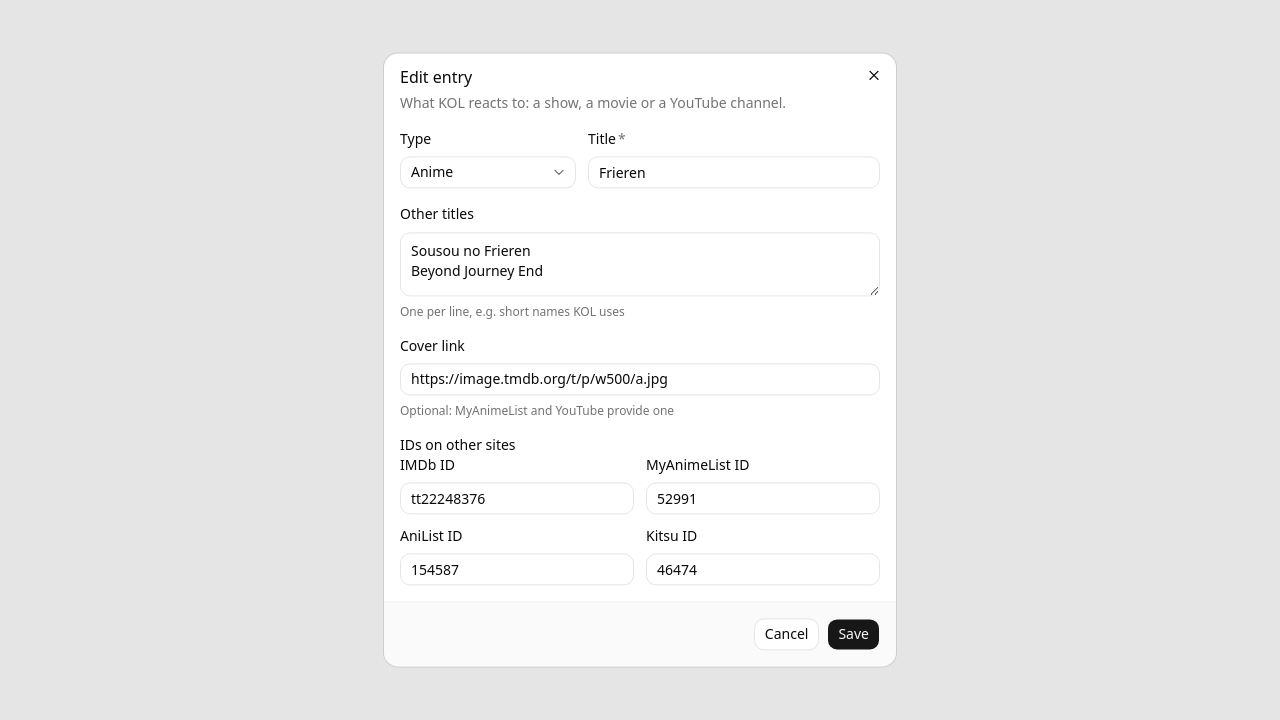
Test: entryEditorDialog › gives an example for each ID
The width and height of the screenshot is (1280, 720).
Click the dropdown named "Type": coordinates (488, 173) [400,157,576,189]
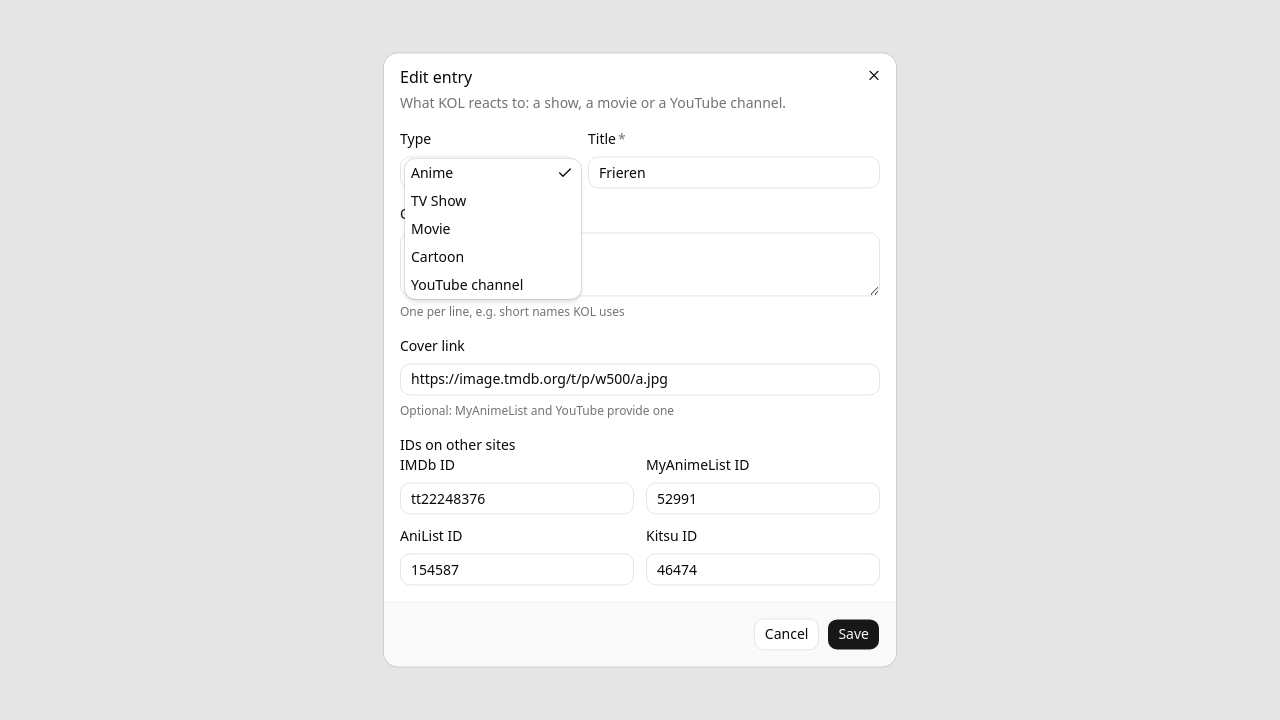
Press the mouse on the option "YouTube channel": coordinates (467, 284) [411,275,523,294]
Click the option "YouTube channel": coordinates (467, 284) [411,275,523,294]
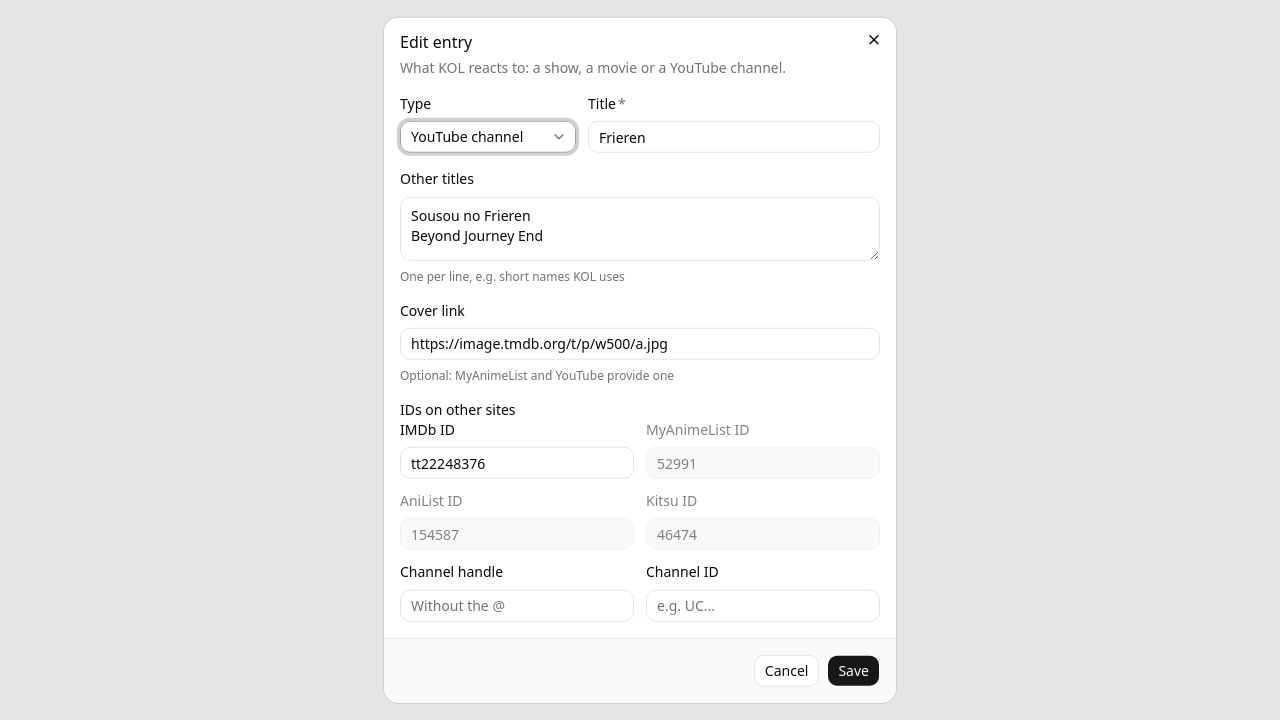
Check: the dropdown named "Type" shows "YouTube channel"
Click the dropdown named "Type": coordinates (488, 137) [400,121,576,153]
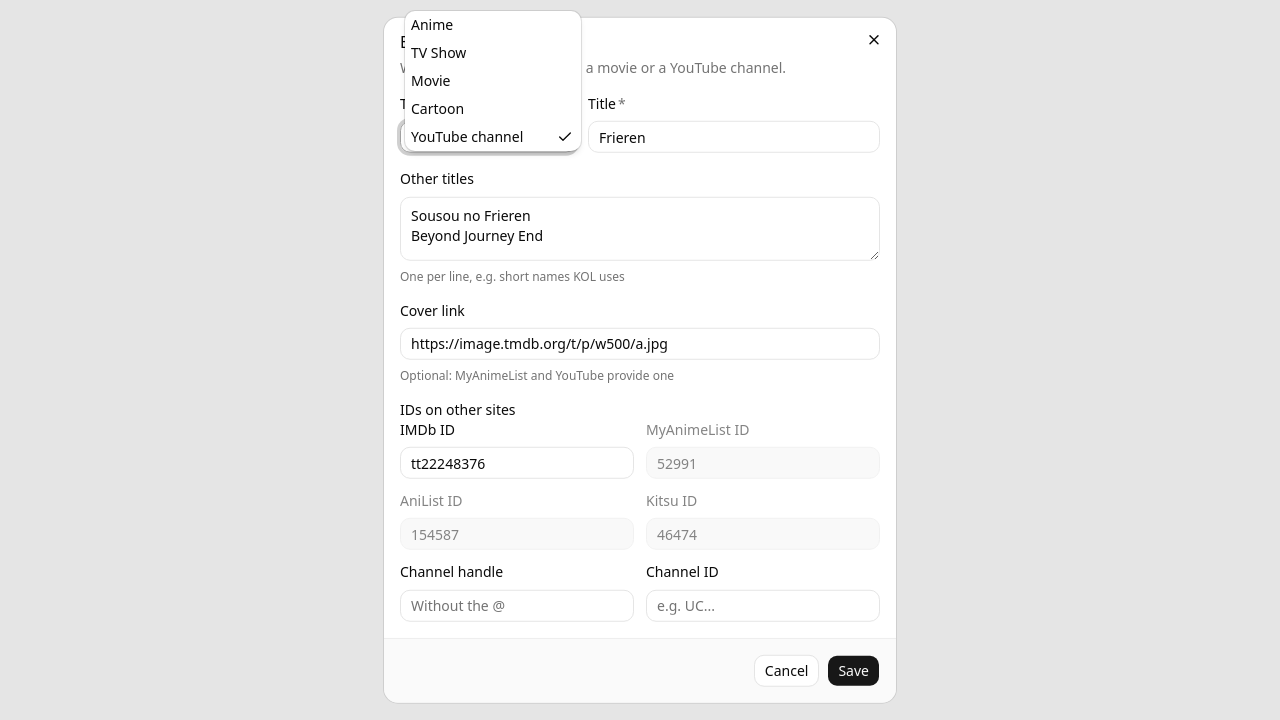
Press the mouse on the option "Movie": coordinates (431, 80) [411,71,450,90]
Click the option "Movie": coordinates (431, 80) [411,71,450,90]
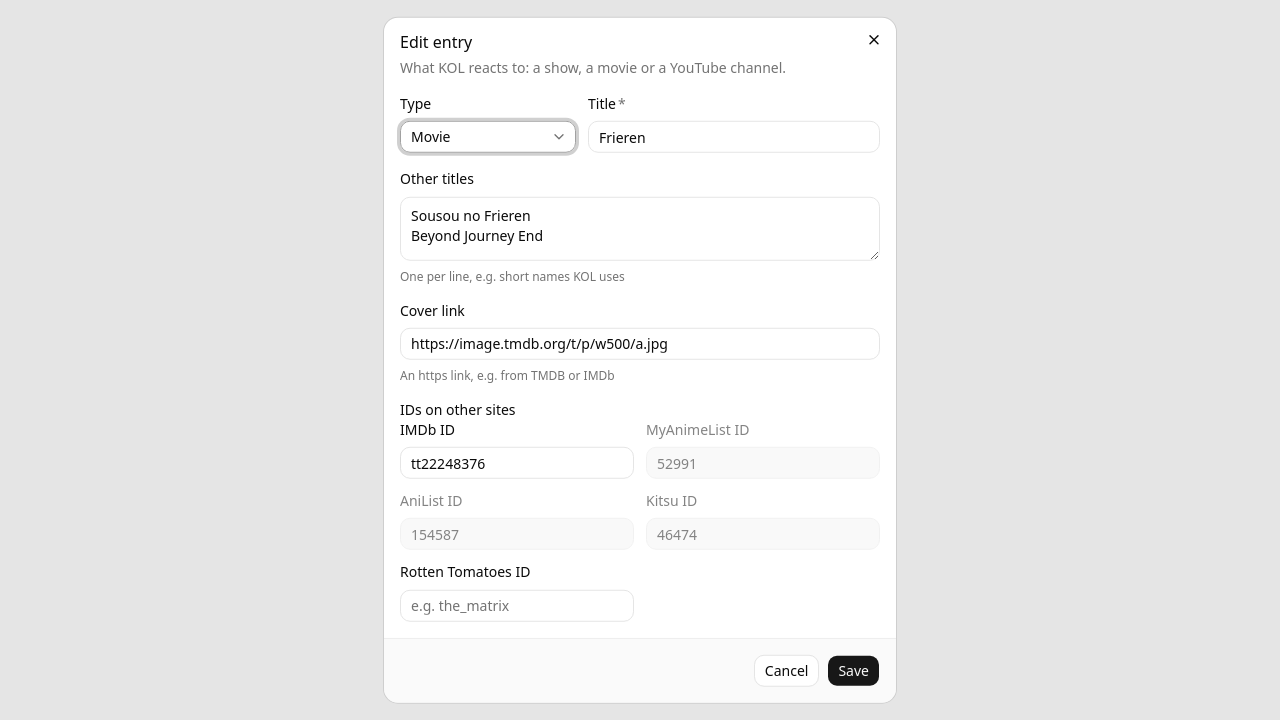
Check: the dropdown named "Type" shows "Movie", box [400,121,576,153]
